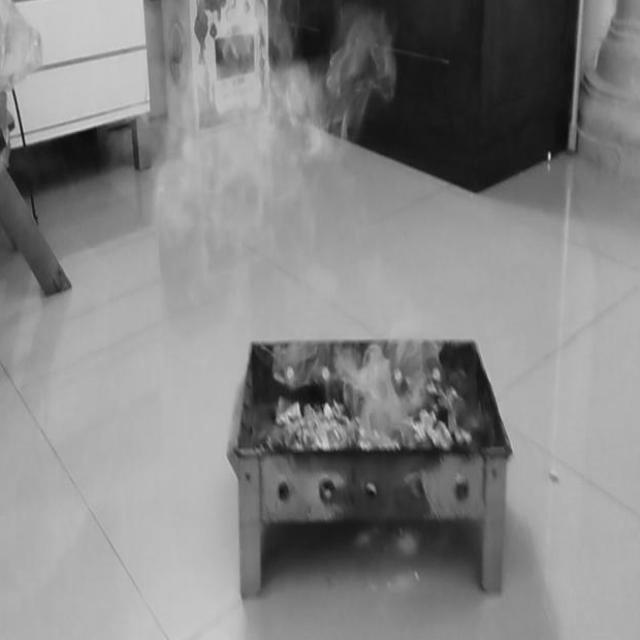fire: (158, 17, 312, 235), (316, 251, 426, 428)
